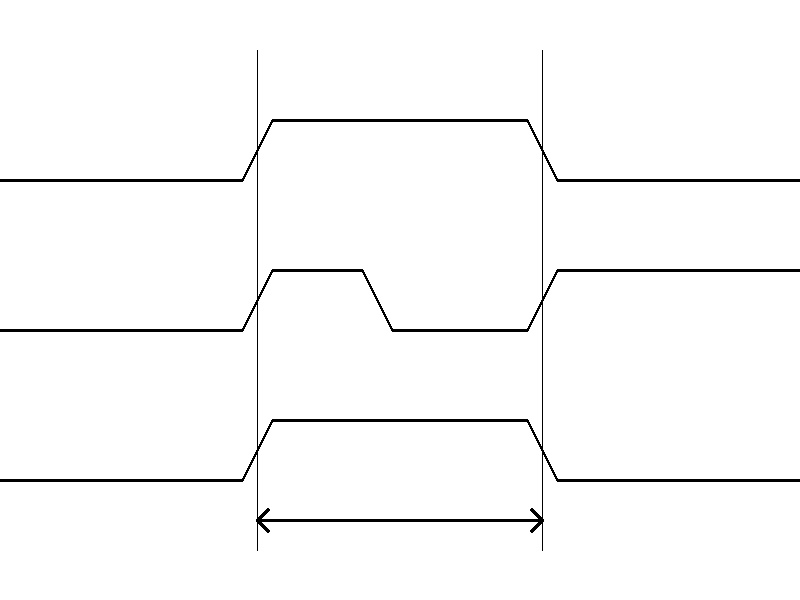double_arrow: (257, 505, 542, 535)
